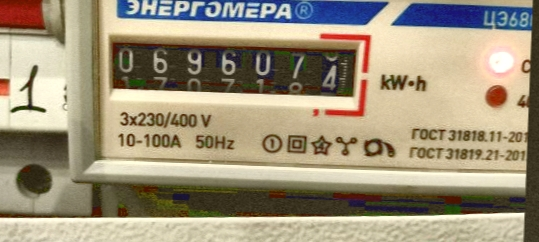0: (113, 43, 133, 72), (249, 47, 269, 75)
4: (317, 62, 336, 90)
6: (147, 45, 166, 73), (216, 46, 235, 74)
7: (284, 48, 304, 79)
9: (181, 46, 200, 75)
screen: (91, 19, 373, 117)
